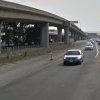Bridge: (1, 1, 93, 36)
